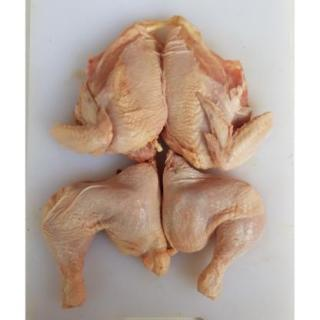Ayam: (45, 163, 167, 311), (167, 14, 276, 173), (164, 153, 269, 304), (52, 24, 166, 160)
